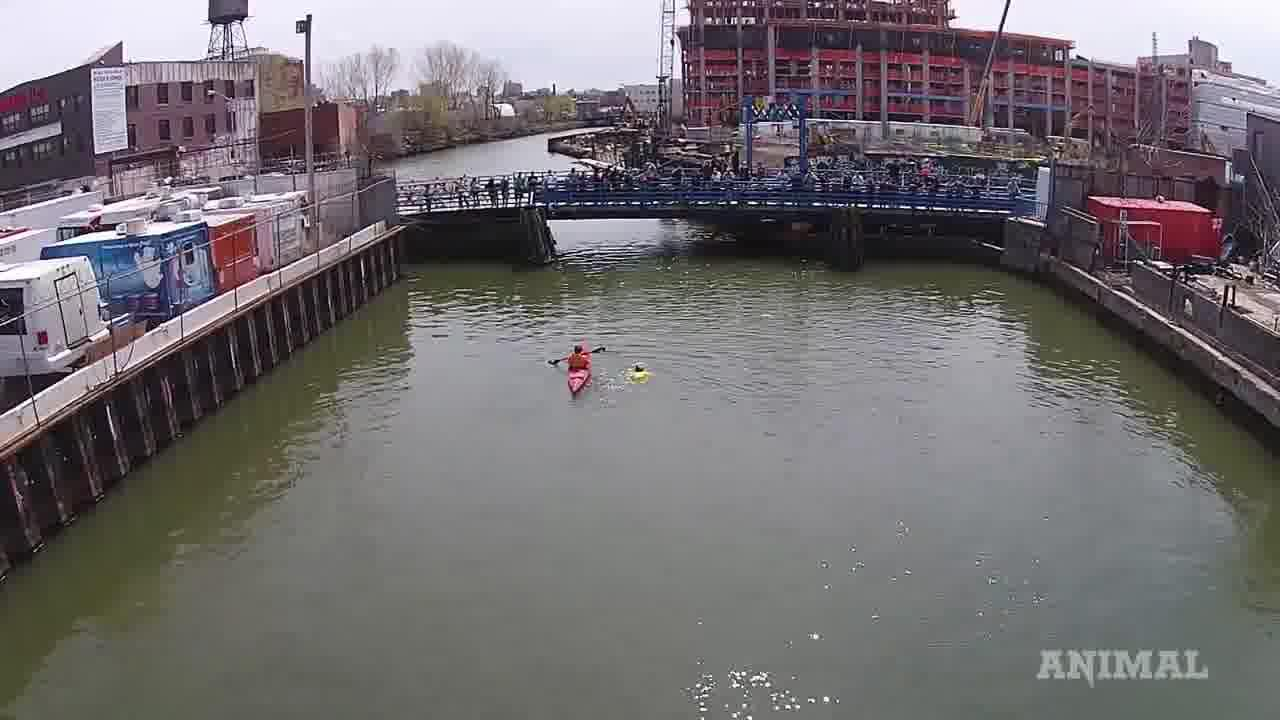human: (620, 360, 660, 391)
